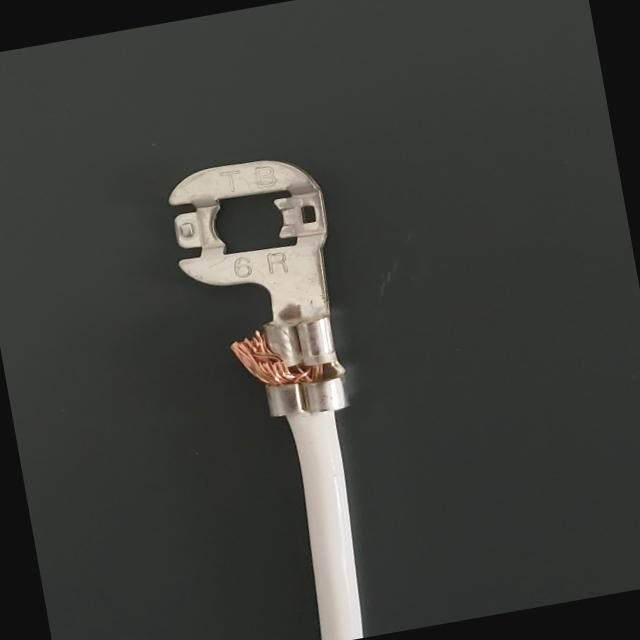defect: (201, 284, 381, 441)
